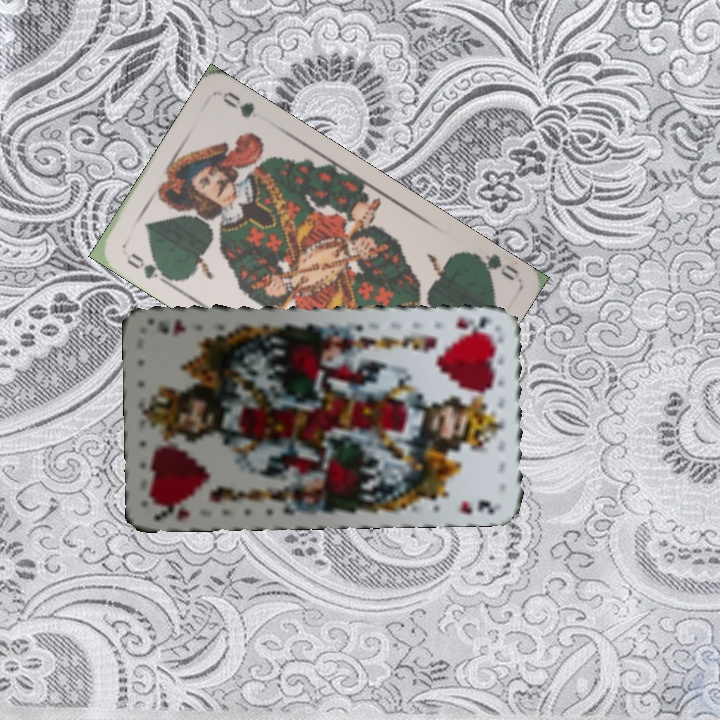GO: (464, 247, 521, 283), (122, 248, 173, 287)
HK: (150, 496, 192, 524), (453, 313, 496, 332)
